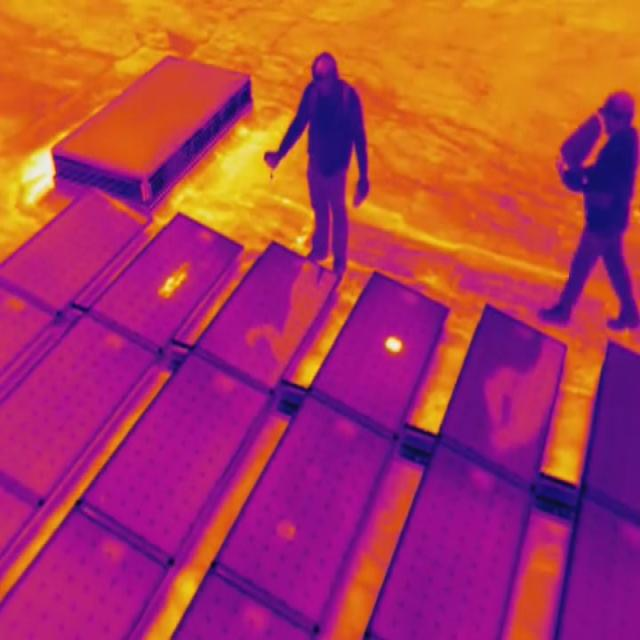Orange-Spots: (156, 258, 190, 304), (277, 513, 298, 543), (382, 330, 404, 354)
